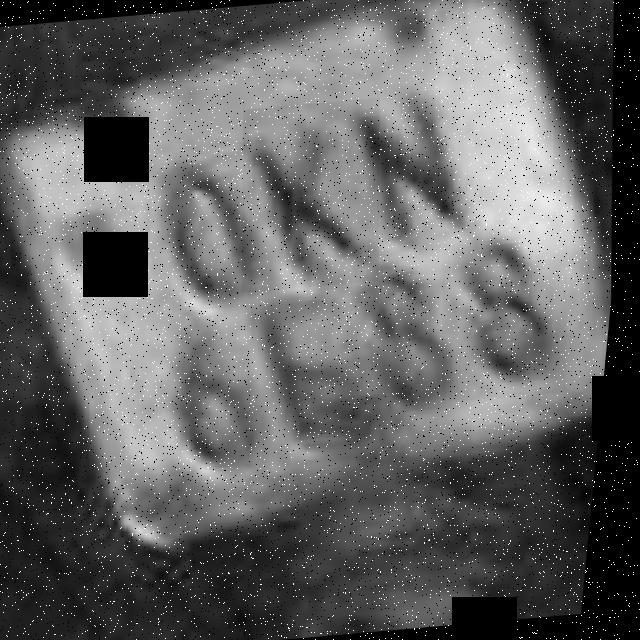6: (137, 293, 301, 492)
8: (434, 212, 587, 402)
K: (231, 97, 397, 292)
N: (325, 76, 499, 256)
O: (136, 138, 301, 324)
